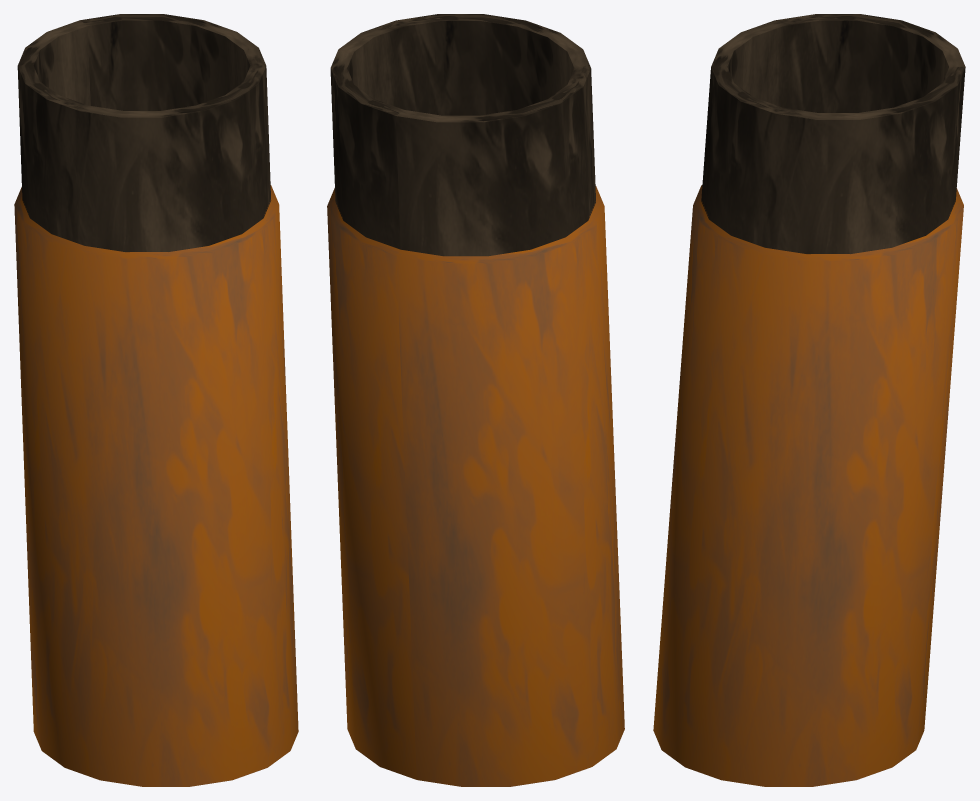
The model's file is cheminee_01.FBX.
3 renders of one model, left to right at view 1: azimuth 30°, elevation 25°; view 2: azimuth 150°, elevation 25°; view 3: azimuth 270°, elevation 25°, orthographic. The views are drawn at different scales.
Parts seen in each view (by area): view 1: Cheminée_01; view 2: Cheminée_01; view 3: Cheminée_01.
Part boxes in pixels (box(x1,y1,x2,y2)): Cheminée_01: box(14, 14, 298, 786); Cheminée_01: box(327, 14, 624, 786); Cheminée_01: box(653, 14, 965, 786).
Size of the model in its own units: 265 by 310 by 727.
